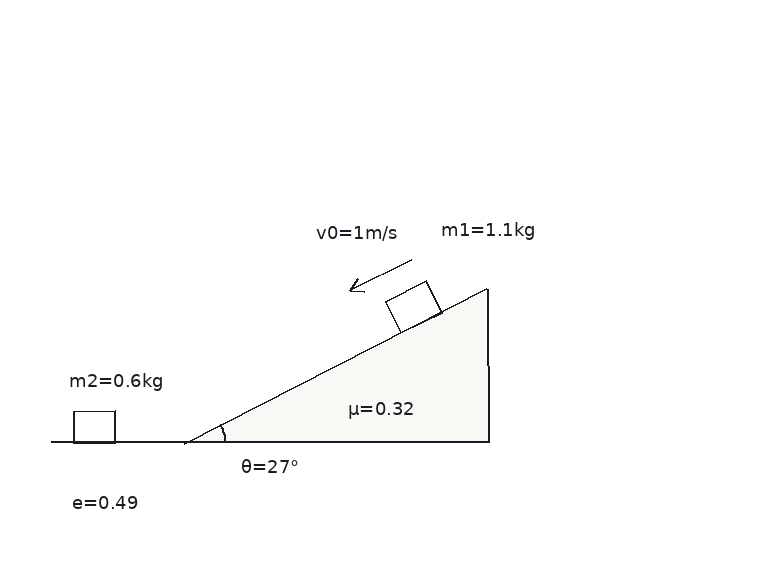block: (382, 279, 443, 335), (71, 409, 117, 444)
ramp: (183, 286, 489, 444)
